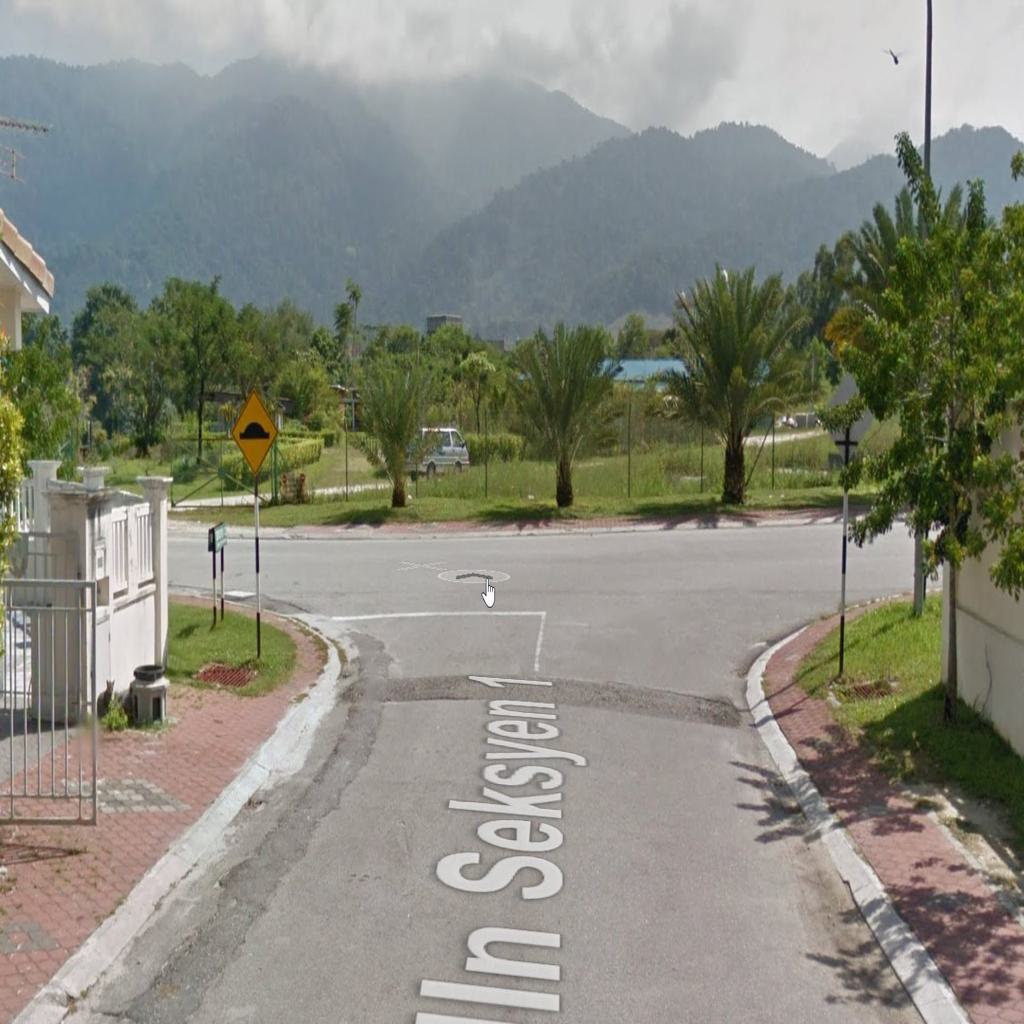Junction: (688, 502, 948, 675), (156, 493, 372, 665)
